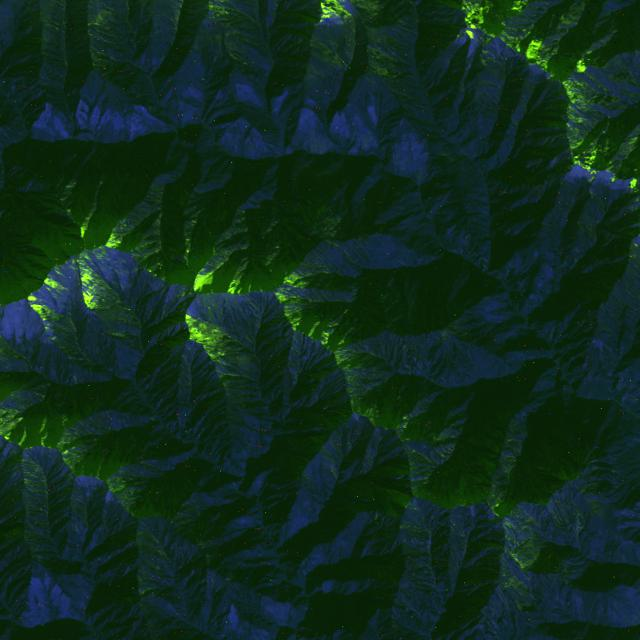landslides: (499, 450, 526, 461), (402, 601, 421, 615), (525, 526, 547, 536), (576, 516, 583, 545), (569, 102, 582, 115), (502, 29, 517, 40), (498, 503, 507, 519), (406, 429, 417, 441), (330, 463, 338, 479), (404, 425, 415, 436), (538, 137, 548, 149), (552, 133, 564, 143), (567, 111, 581, 119), (567, 115, 581, 123), (607, 457, 622, 464), (498, 35, 508, 45)
